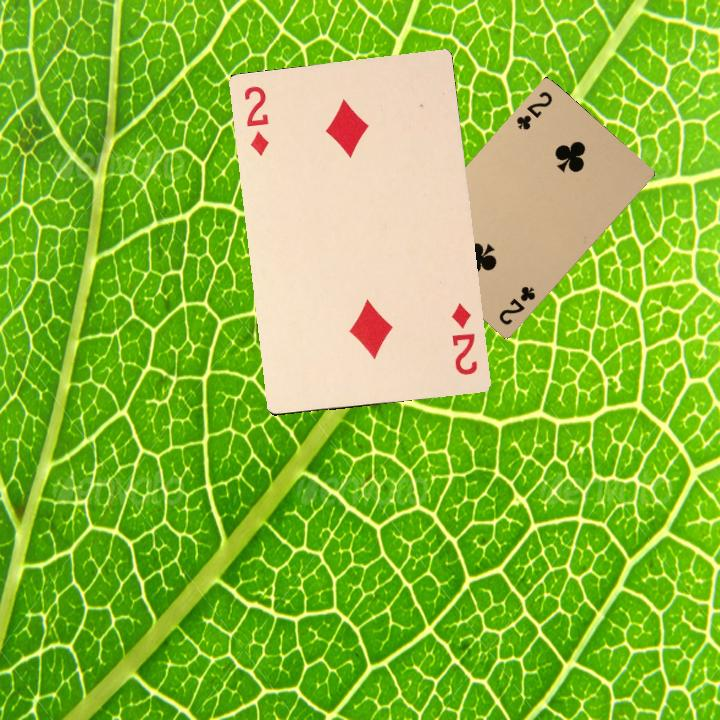2c: (495, 282, 538, 328), (512, 87, 555, 133)
2d: (447, 300, 480, 378), (240, 81, 272, 159)
